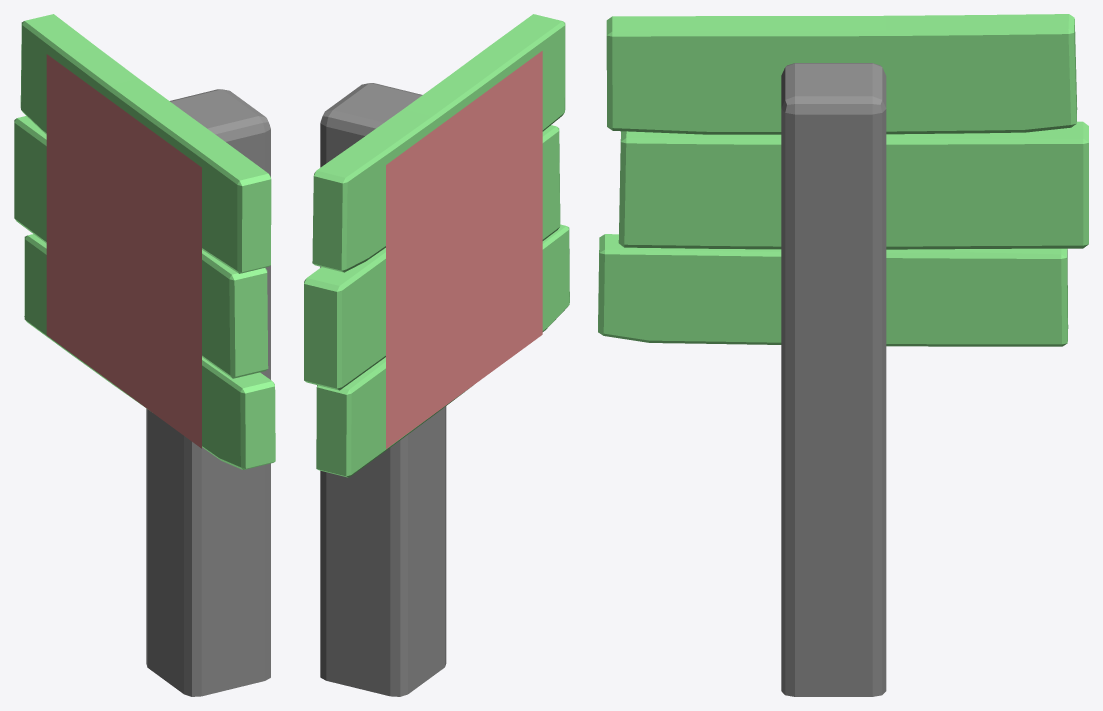
Rendered from Sign.fbx.
3 views of the same model, side by side, from view 1: azimuth 30°, elevation 25°; view 2: azimuth 150°, elevation 25°; view 3: azimuth 270°, elevation 25° (orthographic). The views are drawn at different scales.
Parts seen in each view (by area): view 1: SM_Sign; view 2: SM_Sign; view 3: SM_Sign.
Part boxes in pixels (bbox=[...]): SM_Sign: bbox=[14, 14, 275, 696]; SM_Sign: bbox=[304, 14, 569, 696]; SM_Sign: bbox=[598, 14, 1088, 696].
Size of the model in its own units: 36.7 by 164 by 117.
